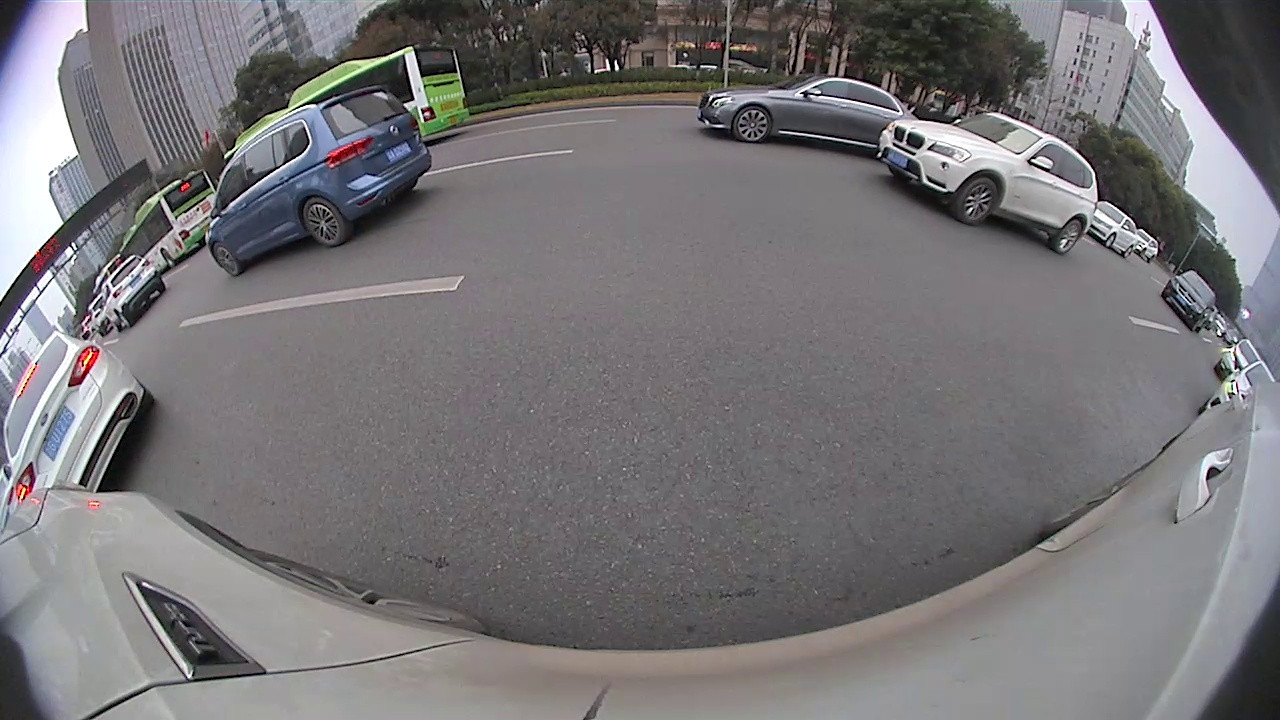bus: (219, 38, 476, 167)
car: (204, 84, 435, 281), (878, 107, 1103, 256), (2, 328, 159, 501), (695, 75, 926, 150), (97, 249, 168, 324), (1161, 267, 1216, 331)
front: (953, 174, 1001, 226), (733, 104, 773, 145), (212, 242, 241, 278)
rear: (302, 195, 347, 247), (1053, 217, 1084, 255)
